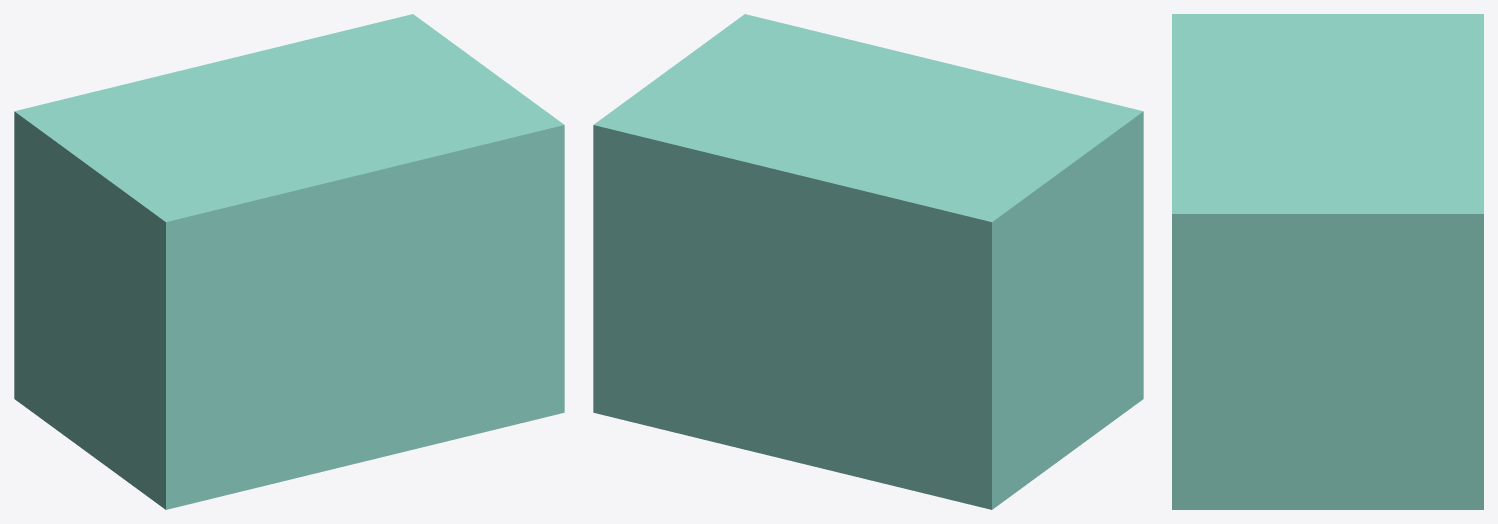
Rendered from food_cart.DAE.
3 views of the same model, side by side, from view 1: azimuth 30°, elevation 25°; view 2: azimuth 150°, elevation 25°; view 3: azimuth 270°, elevation 25° (orthographic). The views are drawn at different scales.
Parts seen in each view (by area): view 1: bounds; view 2: bounds; view 3: bounds.
Part boxes in pixels (x1,y1,x2,y2): bounds: (14, 14, 564, 509); bounds: (593, 14, 1143, 509); bounds: (1172, 14, 1483, 509).
Bounding box in the file's own units: 549 × 362 × 379.
